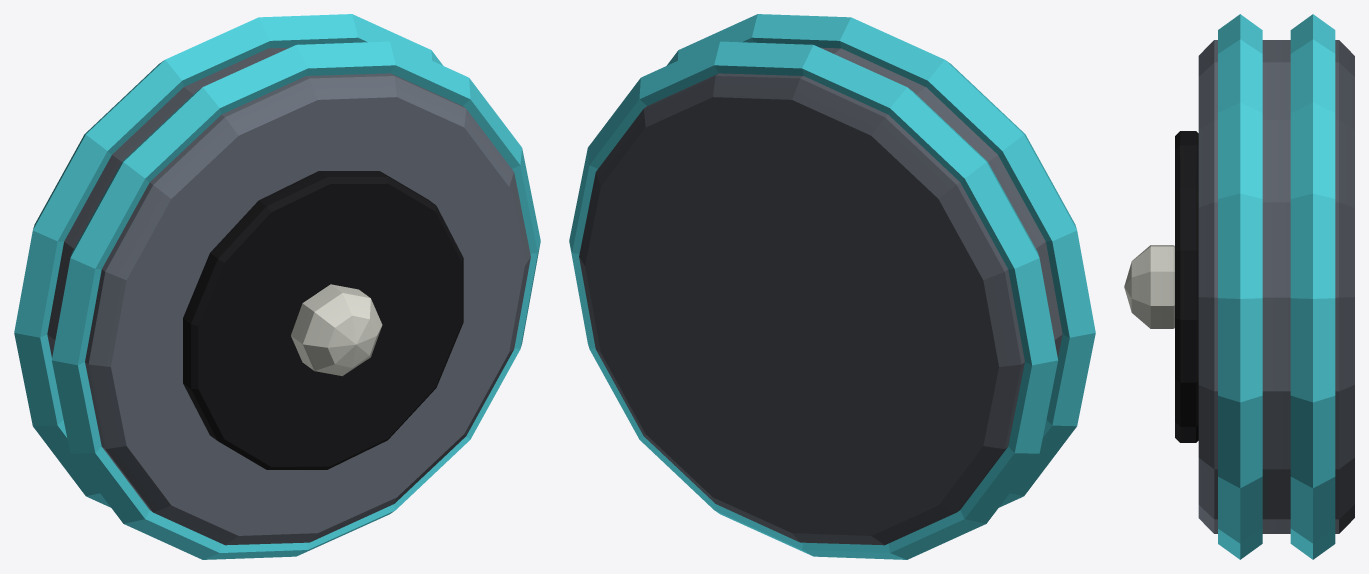
Rendered from emp.glb.
The picture shows the model from 3 angles, left to right: view 1: azimuth 30°, elevation 25°; view 2: azimuth 150°, elevation 25°; view 3: azimuth 270°, elevation 25°; orthographic projection. The views are drawn at different scales.
Visible parts, largest first — view 1: emp; view 2: emp; view 3: emp.
Boxes of the visible parts, x1,y1,x2,y2 form: emp: (14,14,540,559); emp: (569,14,1095,559); emp: (1124,14,1354,559).
Size of the model in its own units: 0.21 by 0.21 by 0.0886.
